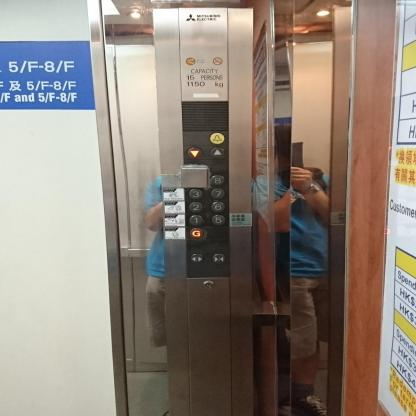1: (188, 214, 204, 226)
2: (188, 200, 203, 214)
3: (188, 187, 203, 200)
5: (210, 214, 226, 226)
6: (210, 200, 225, 213)
7: (209, 188, 226, 200)
8: (209, 174, 225, 186)
G: (189, 227, 204, 239)
alarm: (209, 132, 226, 144)
close: (211, 252, 226, 265)
down: (185, 145, 204, 159)
keyhole: (203, 279, 214, 290)
open: (190, 253, 204, 264)
up: (208, 146, 227, 159)
